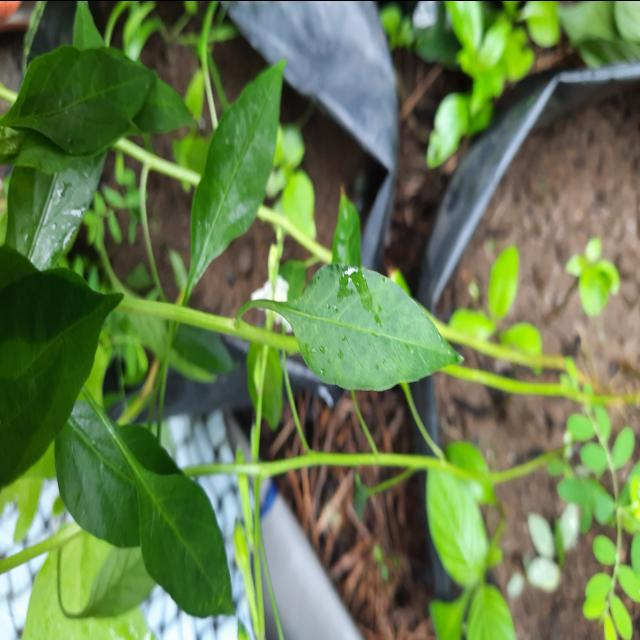sehat: (258, 230, 476, 410), (171, 40, 291, 273), (133, 407, 250, 640), (16, 3, 158, 171)
